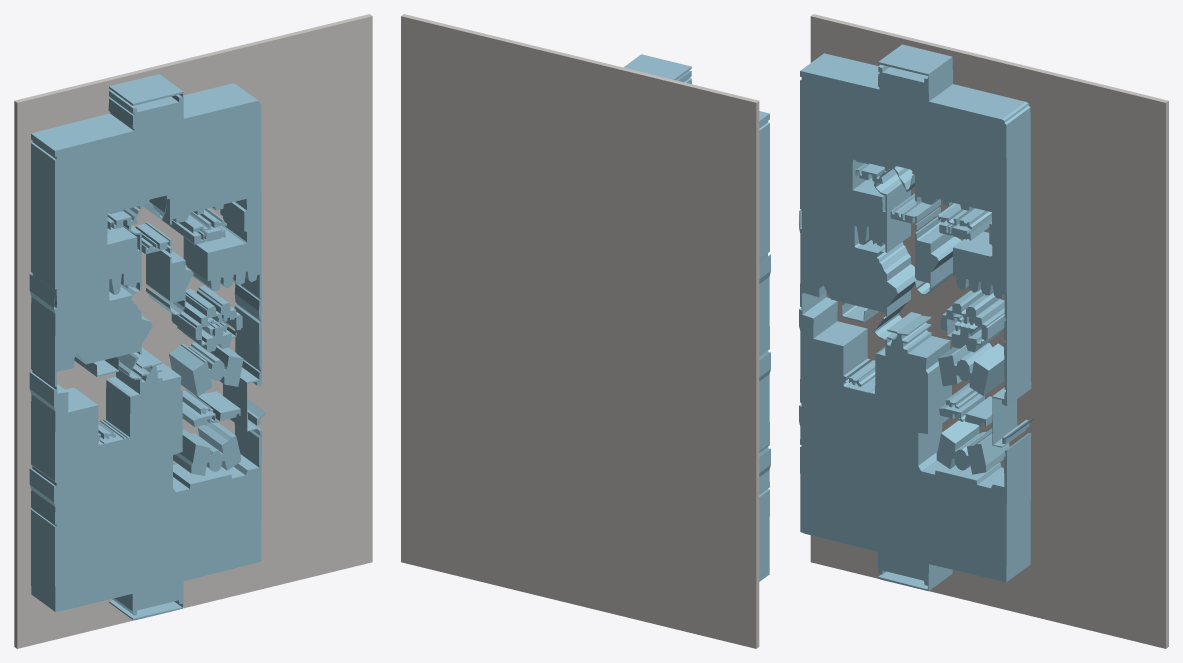
3 views of the same model, side by side, from view 1: azimuth 30°, elevation 25°; view 2: azimuth 150°, elevation 25°; view 3: azimuth 330°, elevation 25° (orthographic).
Visible parts, largest first — view 1: world; view 2: world; view 3: world.
Part boxes in pixels (x1,y1,x2,y2): world: (14, 14, 372, 648); world: (401, 14, 770, 648); world: (799, 14, 1168, 648).
Bounding box in the file's own units: 10.23 × 15.02 × 1.35.
